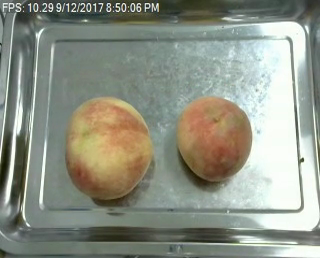Peach: (65, 95, 151, 200), (176, 96, 252, 181)
